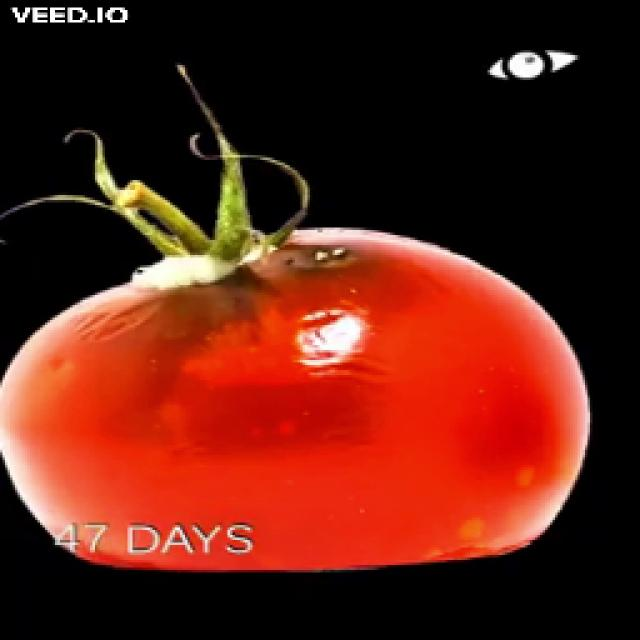overripe tomato: (0, 178, 589, 584)
